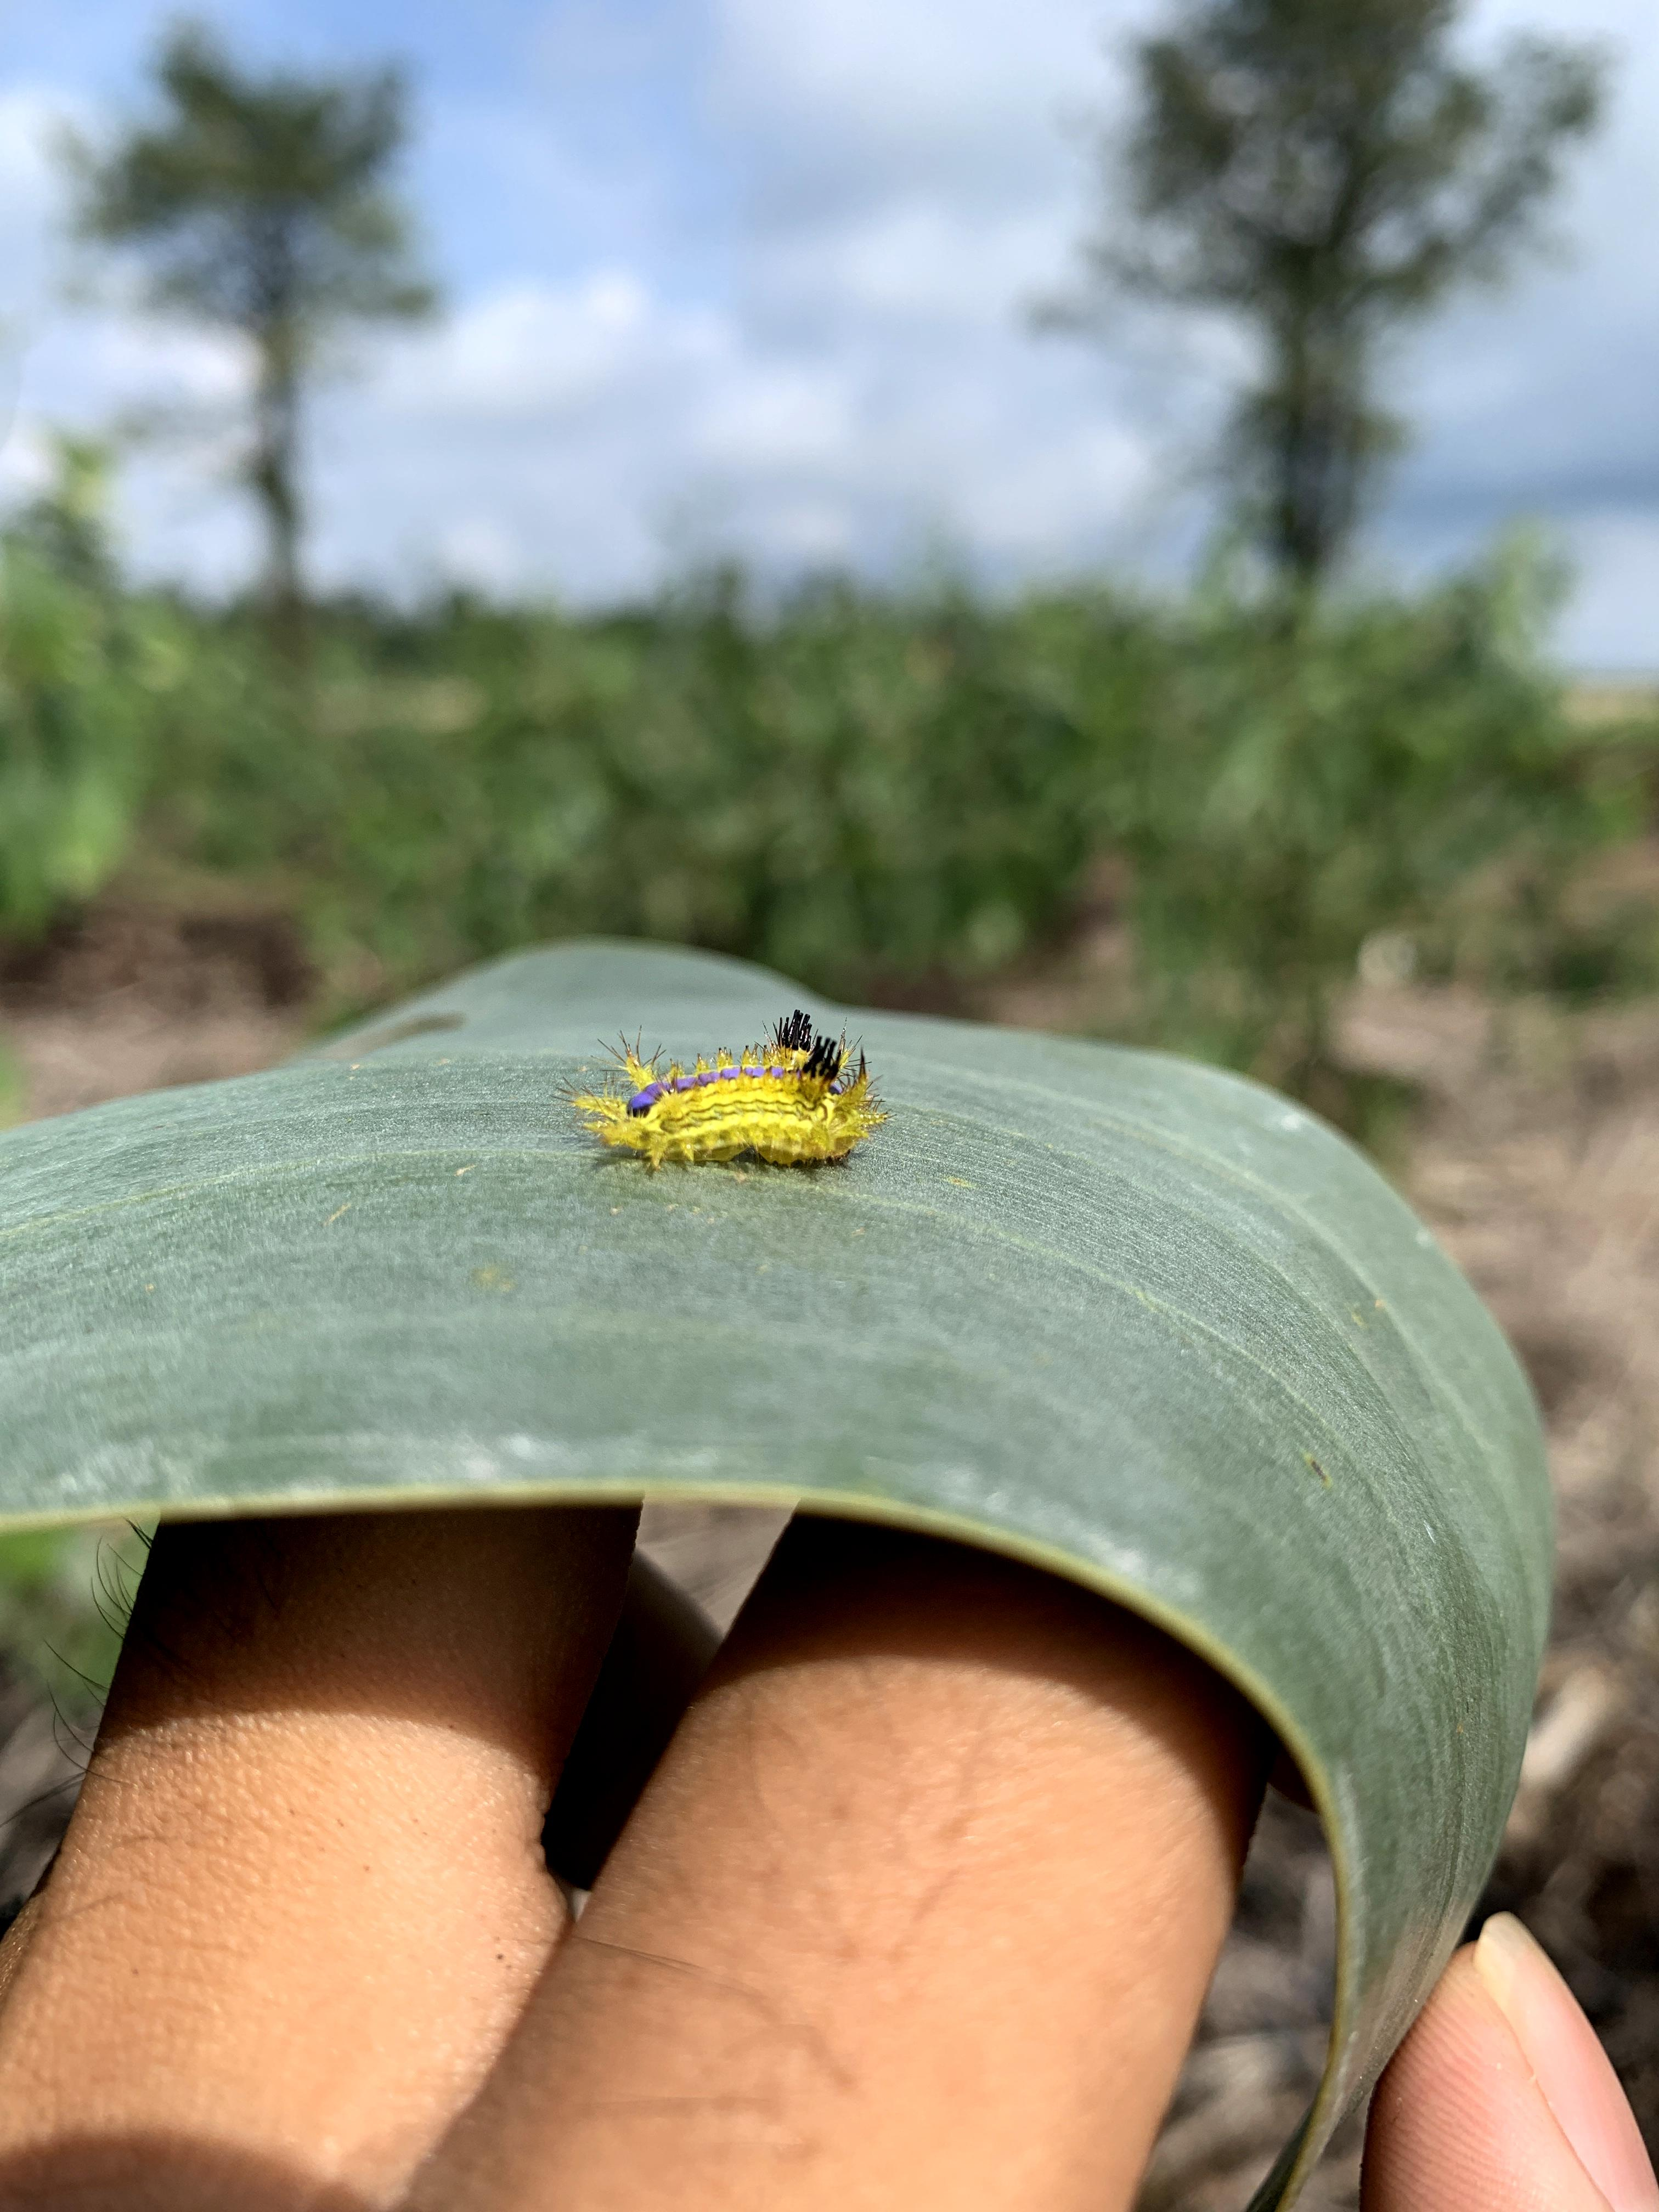Caterpillar: (575, 1000, 884, 1223)
